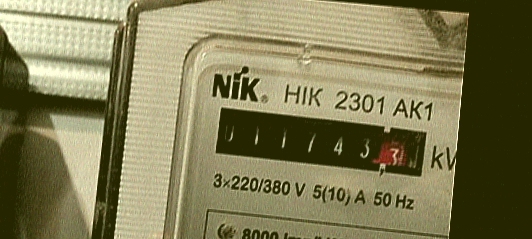0: (221, 116, 238, 144)
1: (248, 119, 265, 148), (276, 122, 292, 151)
3: (357, 133, 373, 161), (385, 146, 402, 168)
4: (331, 132, 347, 158)
7: (303, 128, 319, 154)
screen: (206, 101, 437, 185)
